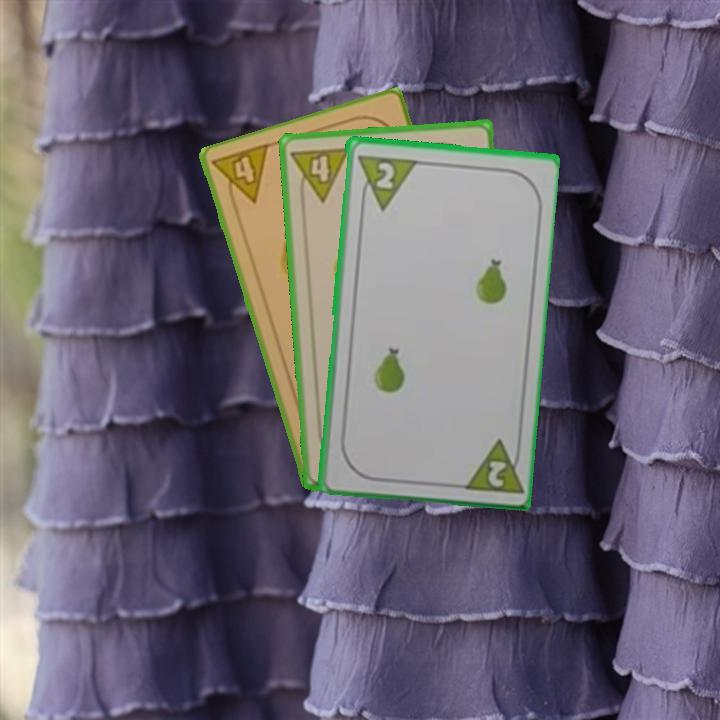2p: (353, 151, 418, 212), (483, 456, 509, 490)
4p: (209, 140, 272, 215), (288, 144, 353, 206)
